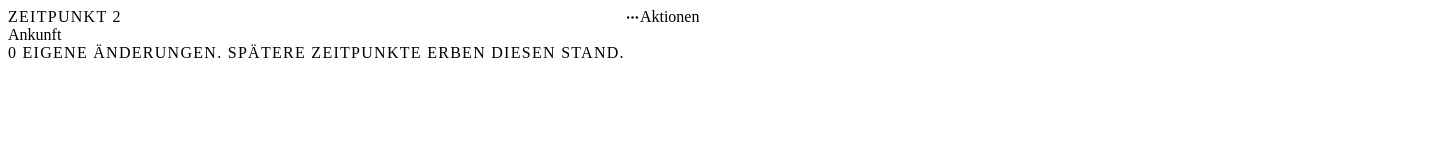
Test: story-world action menu contracts › opens moment actions with ArrowUp and restores focus after an outside click
Press ArrowUp in the button "Aktionen", box [625,8,699,26]
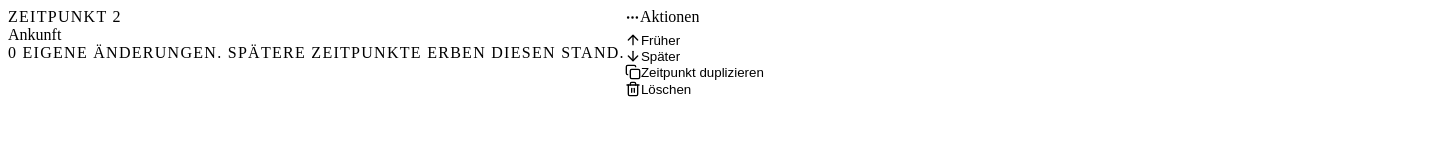
Press the mouse on the element that starts with "Zeitpunkt 2" at (720, 35), box [8,8,1432,62]
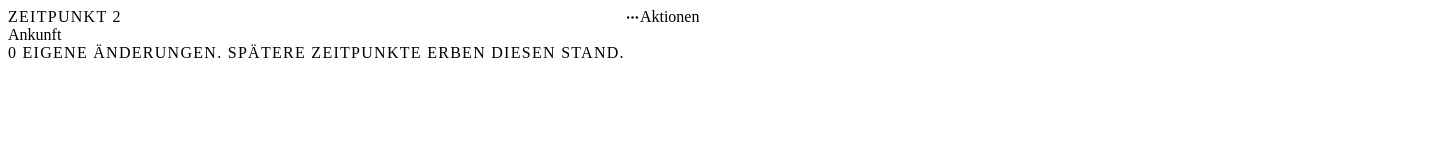
Result: the menu is gone
